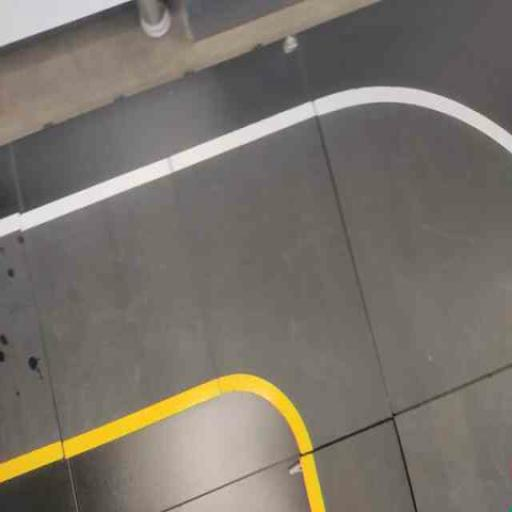left: (169, 19, 511, 511)
